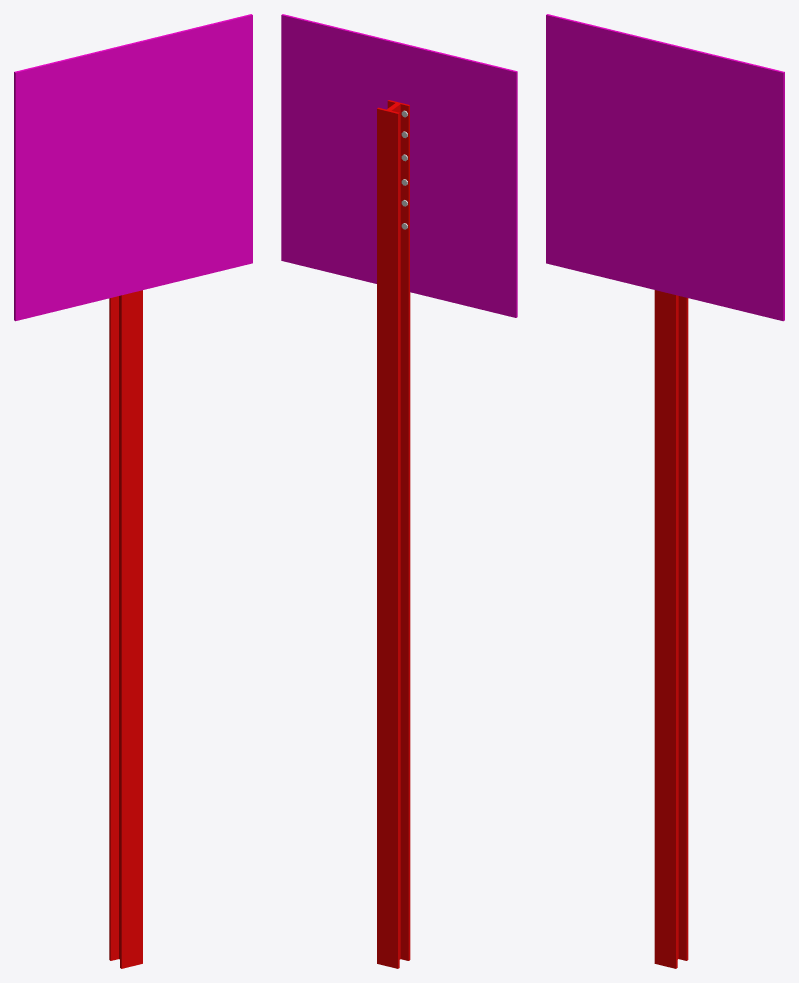
Rendered from SquareSign.fbx.
3 views of the same model, side by side, from view 1: azimuth 30°, elevation 25°; view 2: azimuth 150°, elevation 25°; view 3: azimuth 330°, elevation 25° (orthographic).
Visible parts, largest first — view 1: Cube, Cube_2; view 2: Cube, Cube_2; view 3: Cube, Cube_2.
Boxes of the visible parts, x1,y1,x2,y2 form: Cube: (14,14,252,321); Cube_2: (109,290,142,968); Cube: (281,14,517,317); Cube_2: (377,100,410,968); Cube: (546,14,784,321); Cube_2: (654,290,688,968).
Bounding box in the file's own units: 70.5 × 262 × 6.98.
